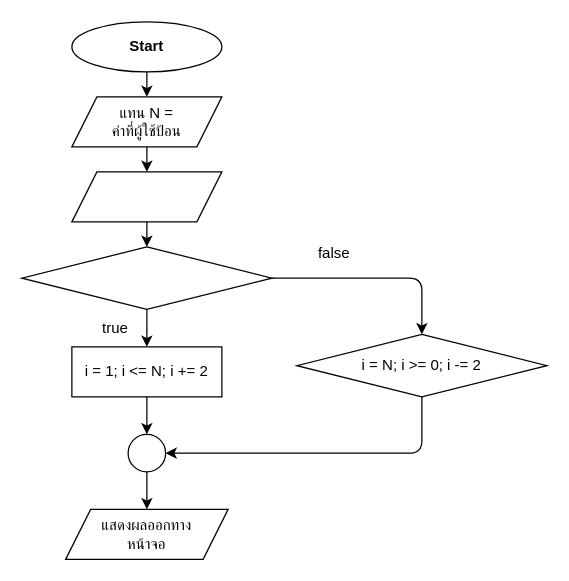
This 569x581 diagram has some shape labels left out. The centre of each missing label's shape, as x and y in pixels:
"N % 2 != 0" goes at point (146, 277).
"รับค่าจากผู้ใช้" goes at point (146, 196).
